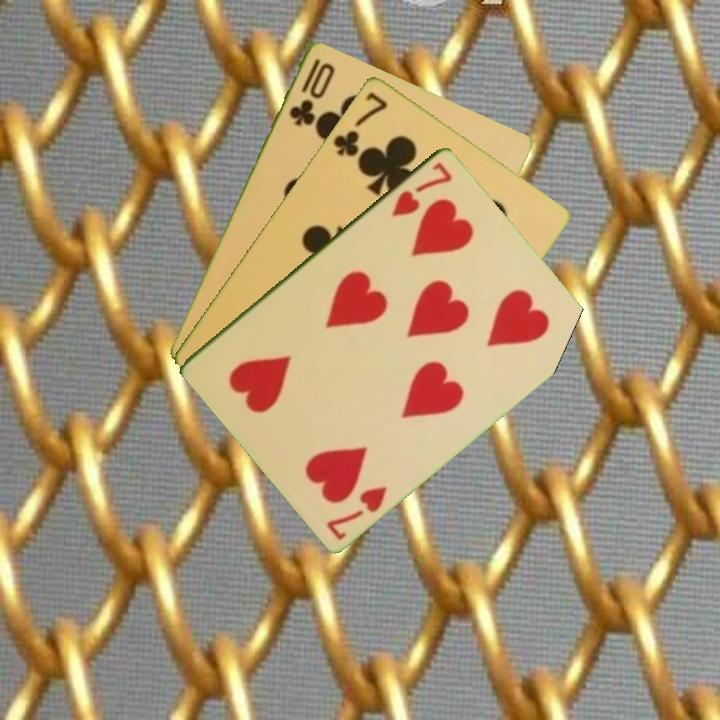10c: (285, 54, 338, 129)
7c: (329, 87, 390, 159)
7h: (387, 158, 456, 219), (323, 481, 390, 543)
